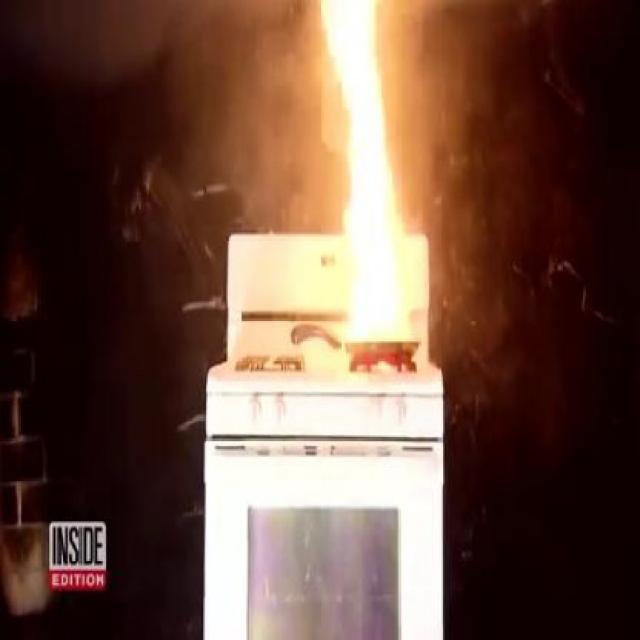fire: (294, 12, 434, 345)
